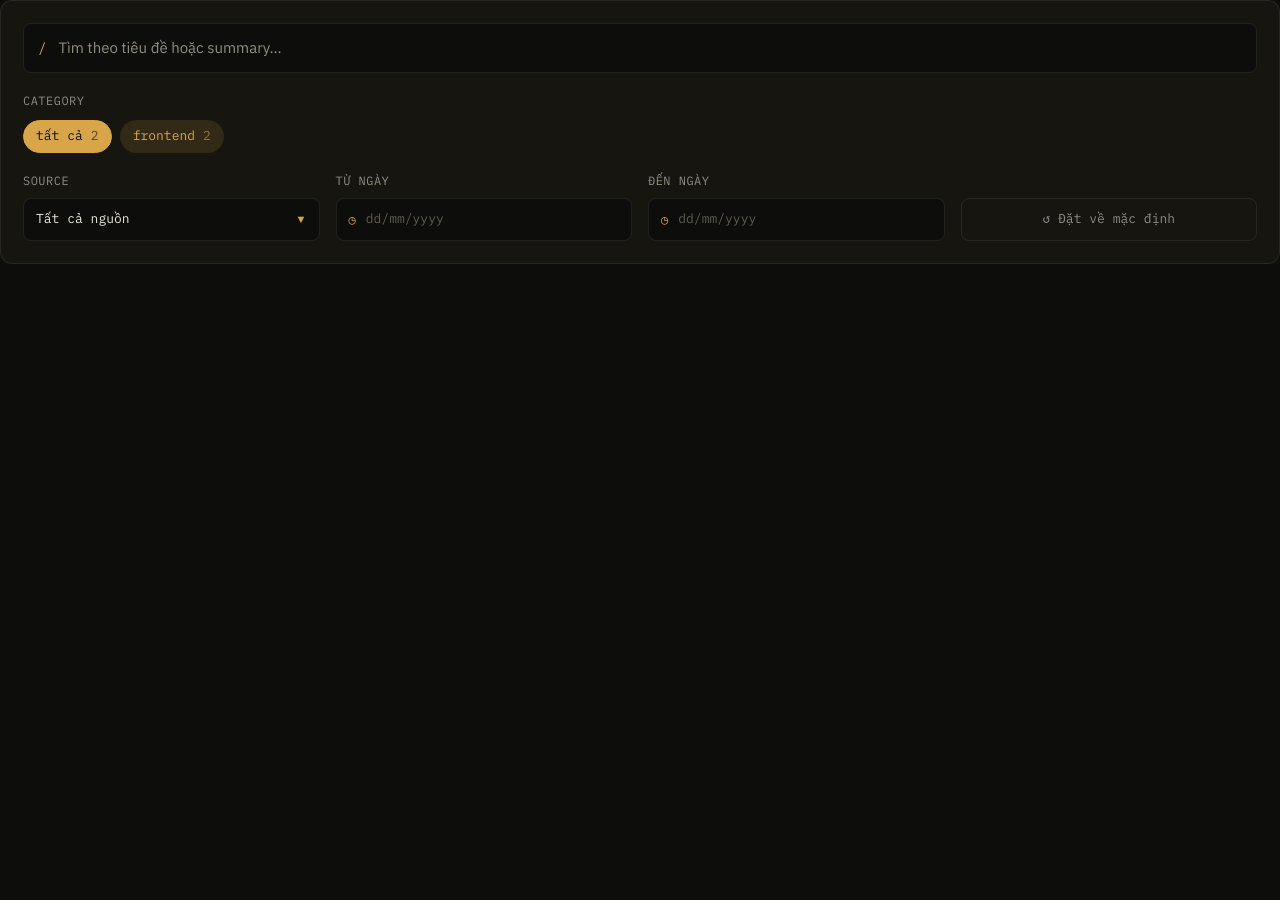
Scenario: FilterPanel › opening a date picker closes Source and vice versa
The image size is (1280, 900).
Click the button named "Source" at (83, 219), box [23,198,320,241]
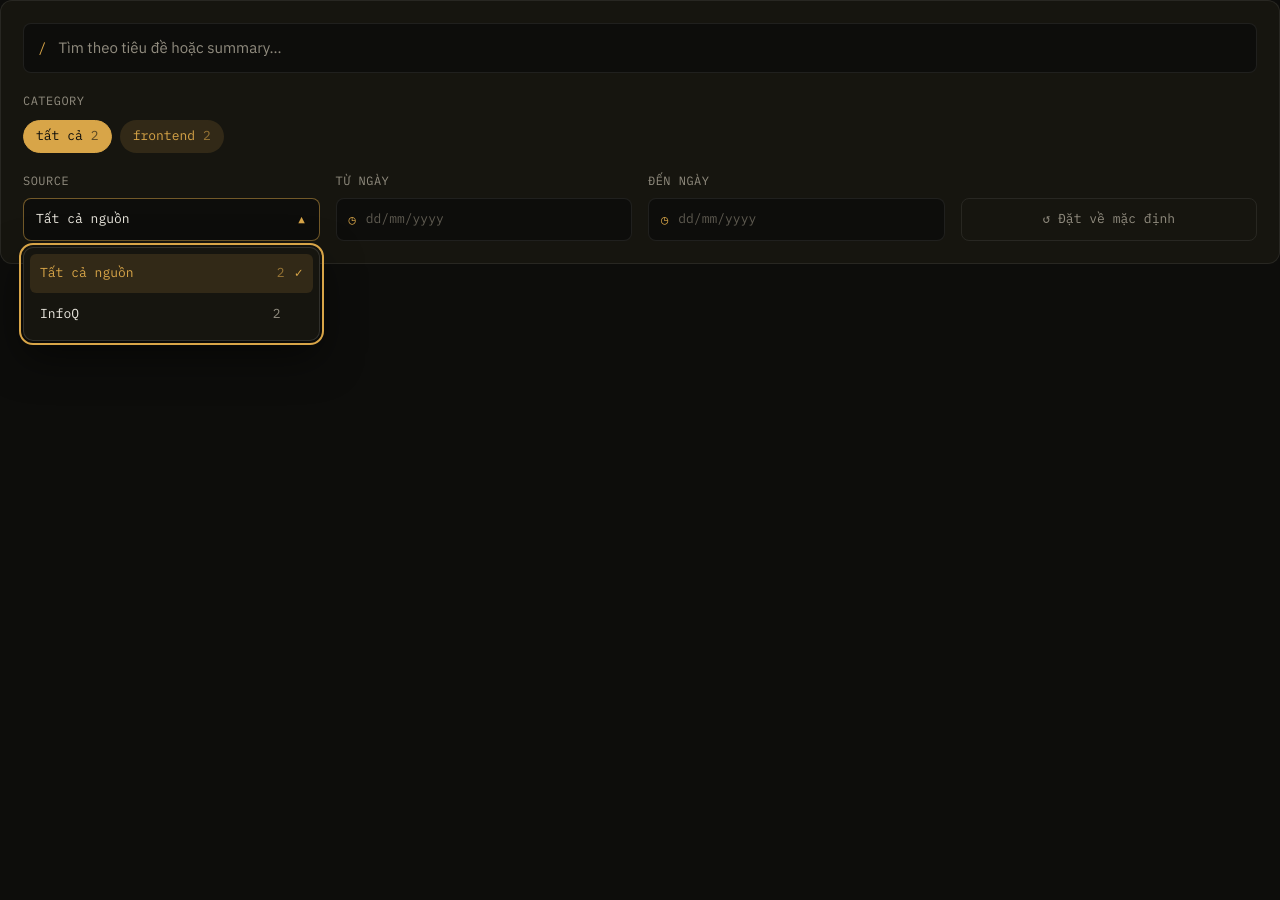
expect the list is shown: met, box [23,247,320,341]
Click the button named "Từ ngày" at (405, 219), box [336,199,631,240]
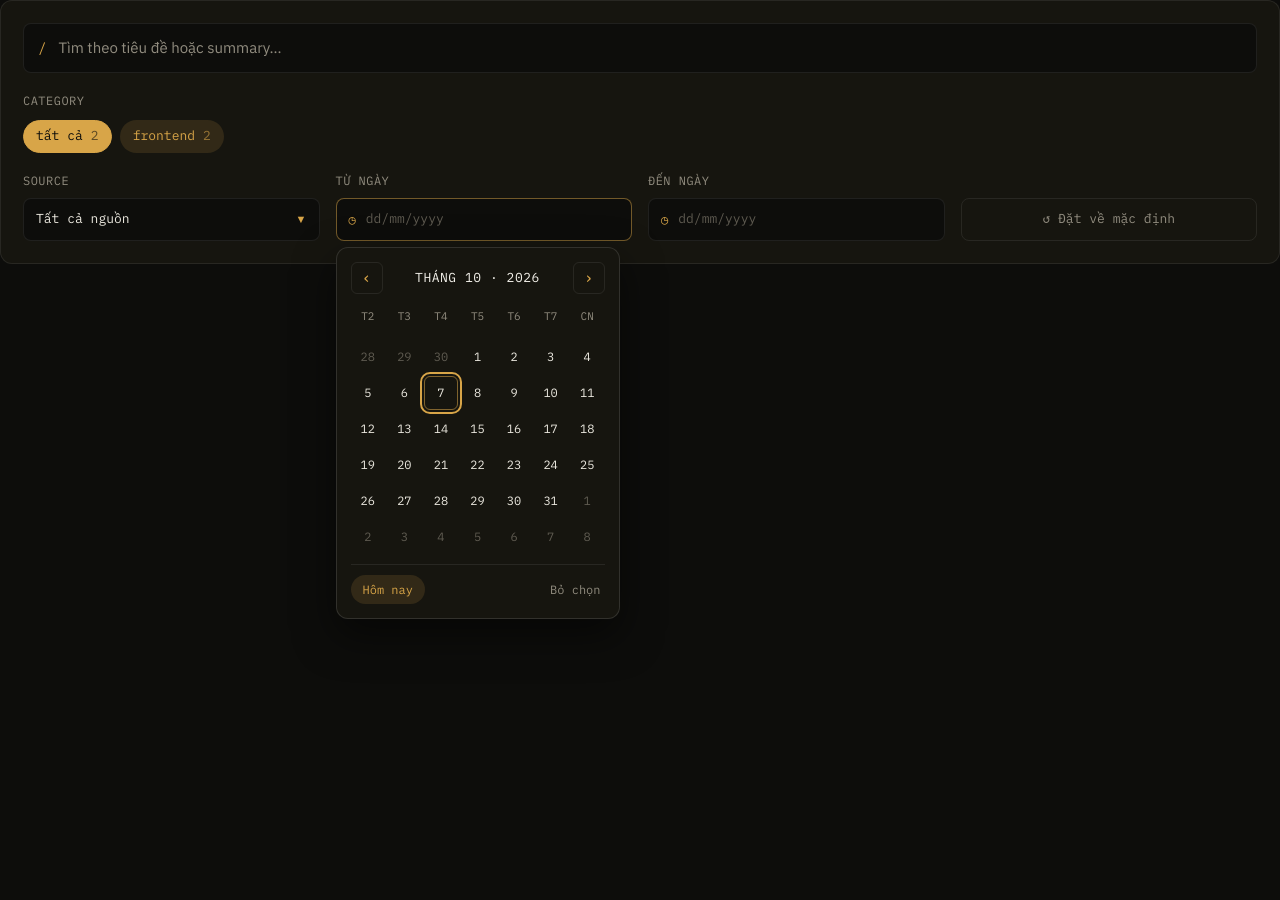
expect the list is gone: met
expect the dialog named "Từ ngày" is shown: met, box [336,247,620,619]
Click the button named "Source" at (83, 219), box [23,198,320,241]
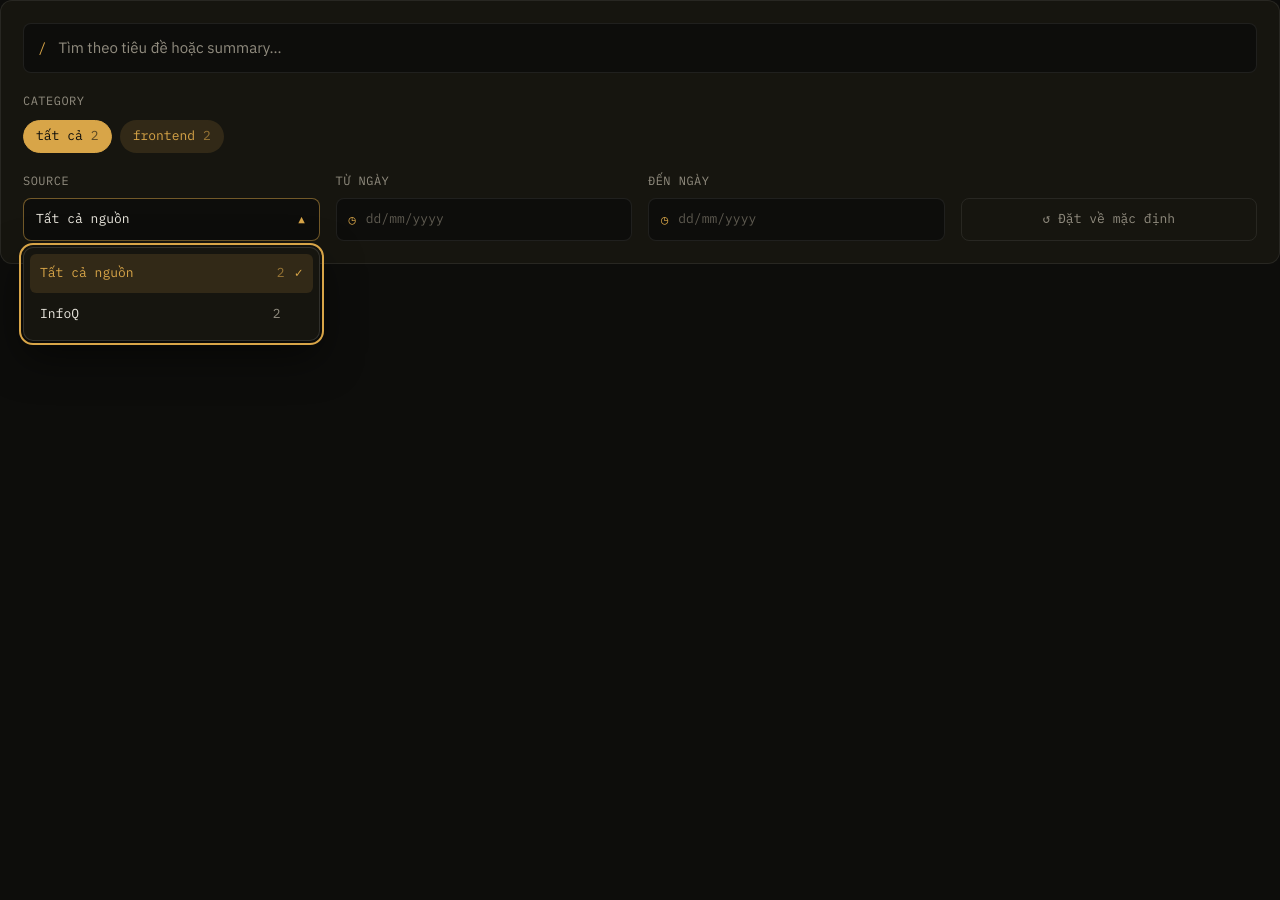
expect the dialog is gone: met
expect the list is shown: met, box [23,247,320,341]
